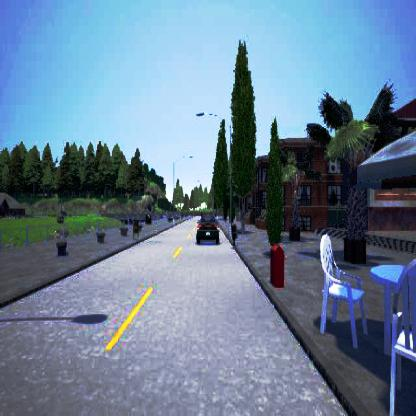vehicle: (196, 211, 218, 243)
